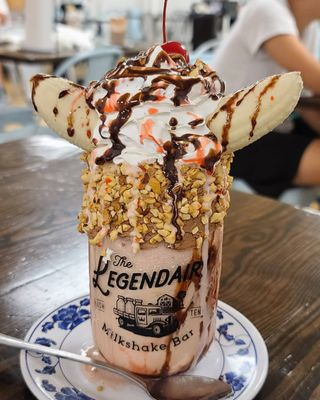curry: (0, 185, 319, 399)
